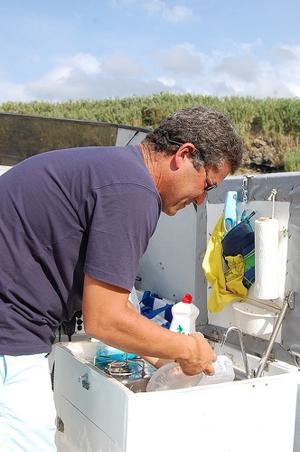person: (2, 106, 243, 452)
